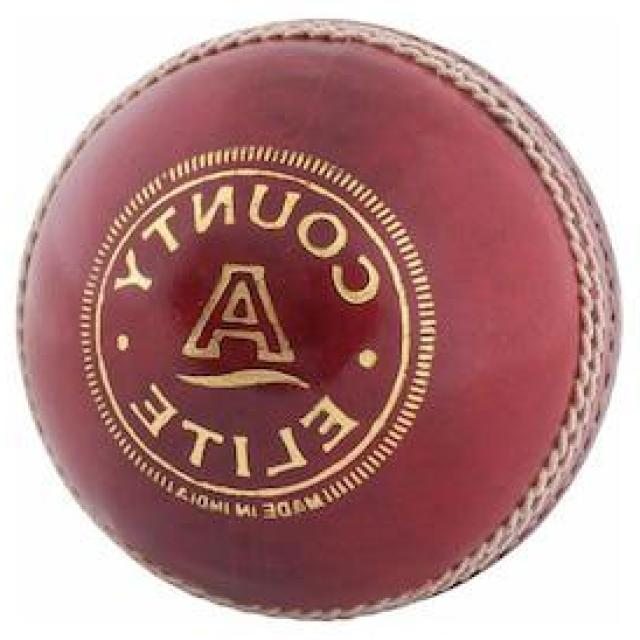ball: (19, 21, 621, 619)
